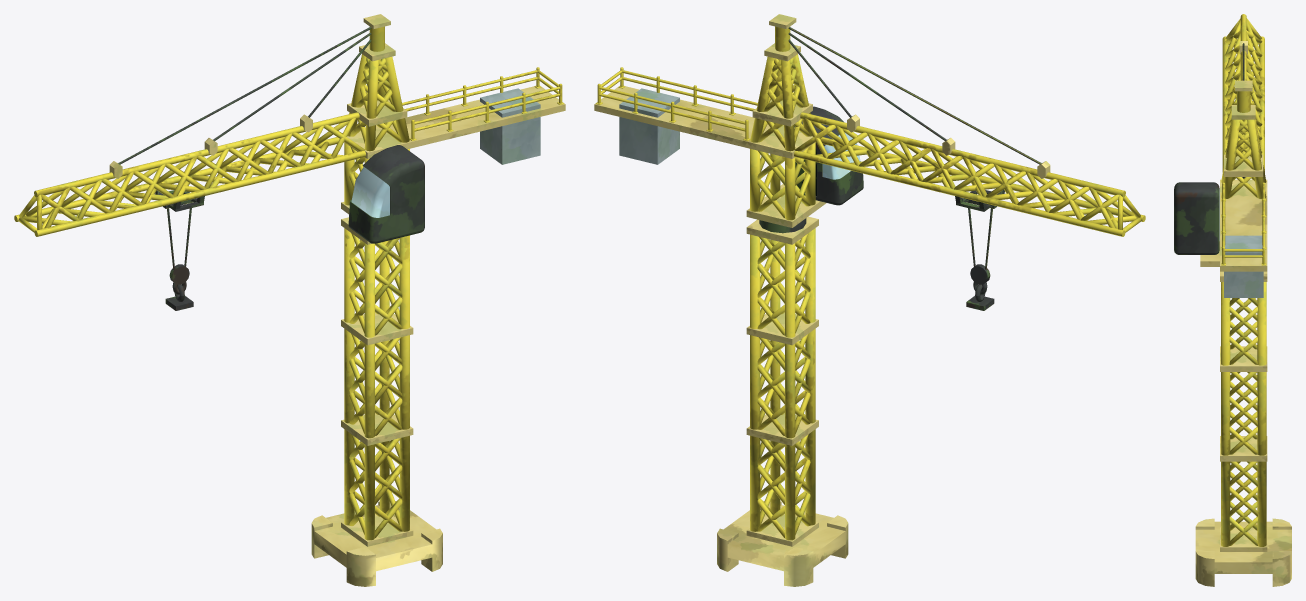
The model's file is Grue.fbx.
3 renders of one model, left to right at view 1: azimuth 30°, elevation 25°; view 2: azimuth 150°, elevation 25°; view 3: azimuth 270°, elevation 25°, orthographic. The views are drawn at different scales.
Visible parts, largest first — view 1: Grue; view 2: Grue; view 3: Grue.
Part boxes in pixels (x1,y1,x2,y2): Grue: [14, 14, 565, 586]; Grue: [594, 14, 1145, 586]; Grue: [1174, 14, 1291, 586].
Bounding box in the file's own units: 5985 × 5859 × 1297.
